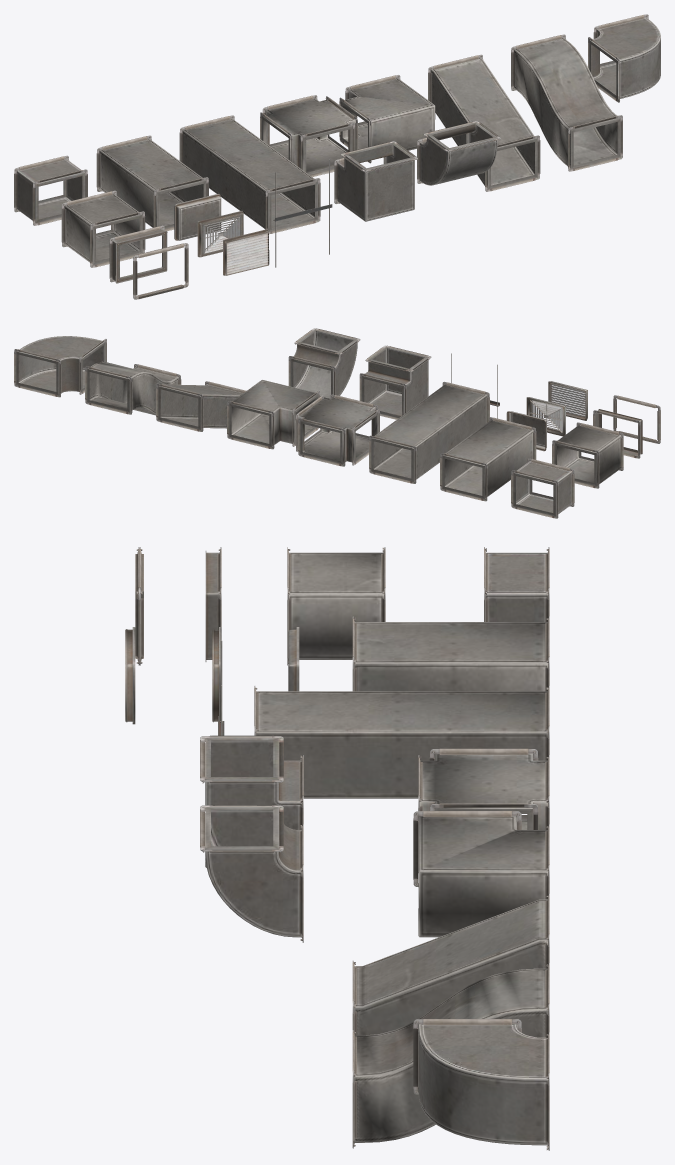
File: modular_airduct_rectangular_01.glb
The picture shows the model from 3 angles, top to bottom: view 1: azimuth 30°, elevation 25°; view 2: azimuth 150°, elevation 25°; view 3: azimuth 270°, elevation 25°; orthographic projection. The views are drawn at different scales.
Visible parts, largest first — view 1: modular_airduct_rectangular_01_tripple_01, modular_airduct_rectangular_01_transition_double_02, modular_airduct_rectangular_01_transition_double_01, modular_airduct_rectangular_01_double_01, modular_airduct_rectangular_01_splitter_01, modular_airduct_rectangular_01_corner_01, modular_airduct_rectangular_01_corner_02, modular_airduct_rectangular_01_bend_02, modular_airduct_rectangular_01_single_01, modular_airduct_rectangular_01_bend_01, modular_airduct_rectangular_01_half_01, modular_airduct_rectangular_01_vent_01 (+4 smaller); view 2: modular_airduct_rectangular_01_tripple_01, modular_airduct_rectangular_01_double_01, modular_airduct_rectangular_01_splitter_01, modular_airduct_rectangular_01_corner_02, modular_airduct_rectangular_01_bend_02, modular_airduct_rectangular_01_corner_01, modular_airduct_rectangular_01_bend_01, modular_airduct_rectangular_01_transition_double_02, modular_airduct_rectangular_01_single_01, modular_airduct_rectangular_01_transition_double_01, modular_airduct_rectangular_01_half_01, modular_airduct_rectangular_01_vent_01 (+4 smaller); view 3: modular_airduct_rectangular_01_tripple_01, modular_airduct_rectangular_01_bend_02, modular_airduct_rectangular_01_corner_02, modular_airduct_rectangular_01_double_01, modular_airduct_rectangular_01_transition_double_01, modular_airduct_rectangular_01_transition_double_02, modular_airduct_rectangular_01_bend_01, modular_airduct_rectangular_01_single_01, modular_airduct_rectangular_01_splitter_01, modular_airduct_rectangular_01_corner_01, modular_airduct_rectangular_01_half_01, modular_airduct_rectangular_01_connector_01 (+2 smaller).
Boxes of the visible parts, x1,y1,x2,y2 form: modular_airduct_rectangular_01_tripple_01: (179, 115, 320, 234); modular_airduct_rectangular_01_transition_double_02: (511, 34, 622, 171); modular_airduct_rectangular_01_transition_double_01: (428, 54, 540, 191); modular_airduct_rectangular_01_double_01: (96, 135, 208, 231); modular_airduct_rectangular_01_splitter_01: (260, 95, 357, 176); modular_airduct_rectangular_01_corner_01: (334, 141, 417, 221); modular_airduct_rectangular_01_corner_02: (339, 75, 435, 163); modular_airduct_rectangular_01_bend_02: (588, 14, 660, 102); modular_airduct_rectangular_01_single_01: (61, 190, 145, 267); modular_airduct_rectangular_01_bend_01: (417, 121, 500, 185); modular_airduct_rectangular_01_half_01: (14, 155, 87, 225); modular_airduct_rectangular_01_vent_01: (223, 229, 269, 275); modular_airduct_rectangular_01_tripple_01: (369, 381, 489, 483); modular_airduct_rectangular_01_double_01: (440, 417, 536, 501); modular_airduct_rectangular_01_splitter_01: (296, 394, 379, 466); modular_airduct_rectangular_01_corner_02: (227, 380, 319, 449); modular_airduct_rectangular_01_bend_02: (14, 336, 106, 397); modular_airduct_rectangular_01_corner_01: (359, 345, 431, 419); modular_airduct_rectangular_01_bend_01: (288, 328, 360, 399); modular_airduct_rectangular_01_transition_double_02: (85, 361, 181, 415); modular_airduct_rectangular_01_single_01: (552, 422, 623, 488); modular_airduct_rectangular_01_transition_double_01: (156, 381, 246, 431); modular_airduct_rectangular_01_half_01: (511, 458, 574, 518); modular_airduct_rectangular_01_vent_01: (548, 381, 587, 420); modular_airduct_rectangular_01_tripple_01: (254, 686, 549, 798); modular_airduct_rectangular_01_bend_02: (413, 1019, 549, 1150); modular_airduct_rectangular_01_corner_02: (413, 811, 549, 937); modular_airduct_rectangular_01_double_01: (352, 616, 549, 691); modular_airduct_rectangular_01_transition_double_01: (352, 894, 549, 1035); modular_airduct_rectangular_01_transition_double_02: (352, 963, 549, 1148); modular_airduct_rectangular_01_bend_01: (200, 805, 303, 942); modular_airduct_rectangular_01_single_01: (287, 547, 385, 665); modular_airduct_rectangular_01_splitter_01: (418, 748, 549, 872); modular_airduct_rectangular_01_corner_01: (200, 735, 303, 867); modular_airduct_rectangular_01_half_01: (484, 547, 549, 621); modular_airduct_rectangular_01_connector_01: (205, 547, 221, 661).
Bounding box in the file's own units: 7.66 × 1.26 × 2.59.
Materials: 2 (2 with a texture image).
